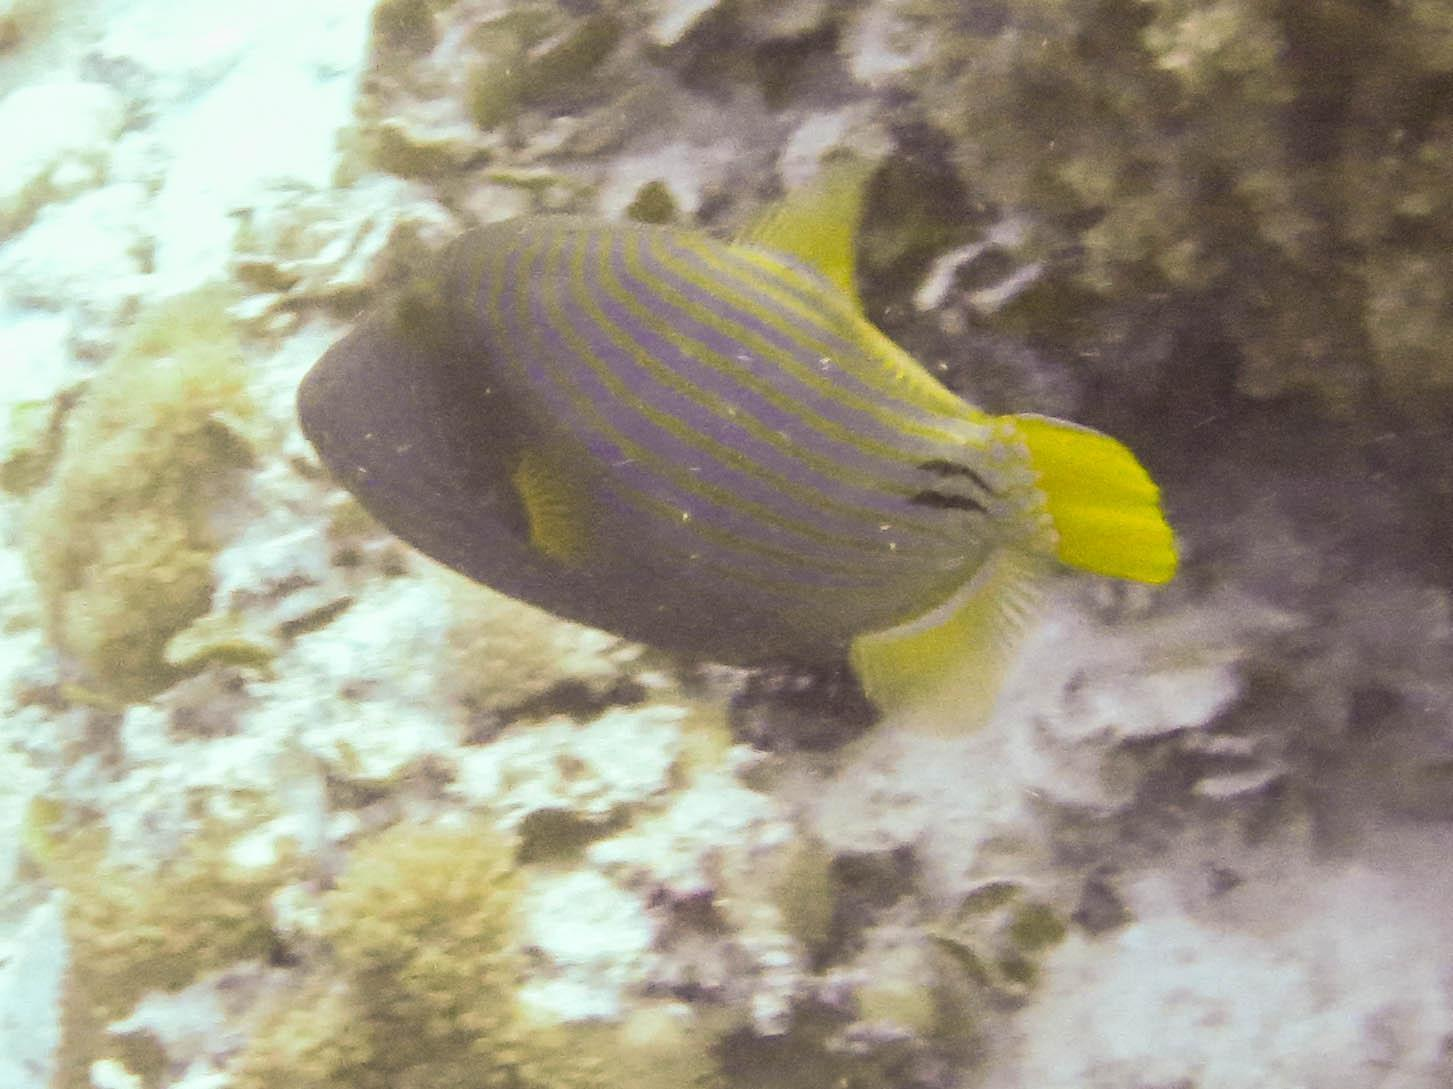Fish: (175, 117, 1283, 796)
